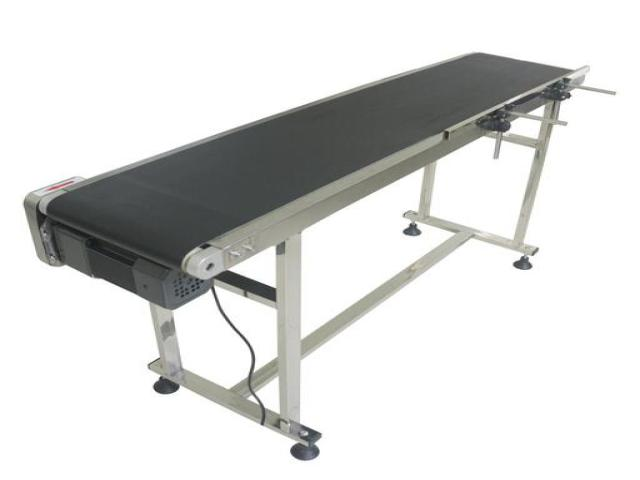conveyor: (31, 50, 588, 330)
